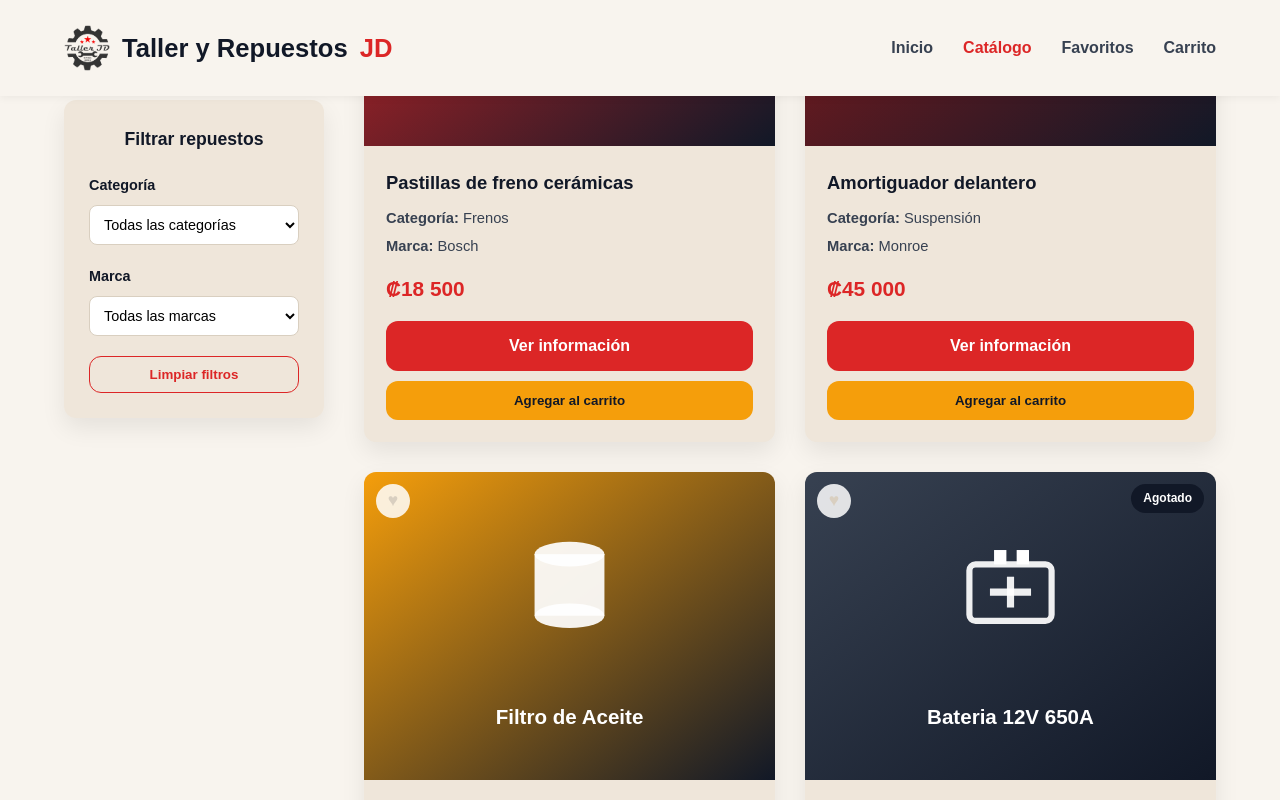
Carrito y consumo de la API de tipo de cambio › mientras la API responde muestra el estado de carga
(page scrolled)
Step 1. Click the button "Agregar al carrito" below "18 500" → (570,400), box [386, 381, 753, 420]
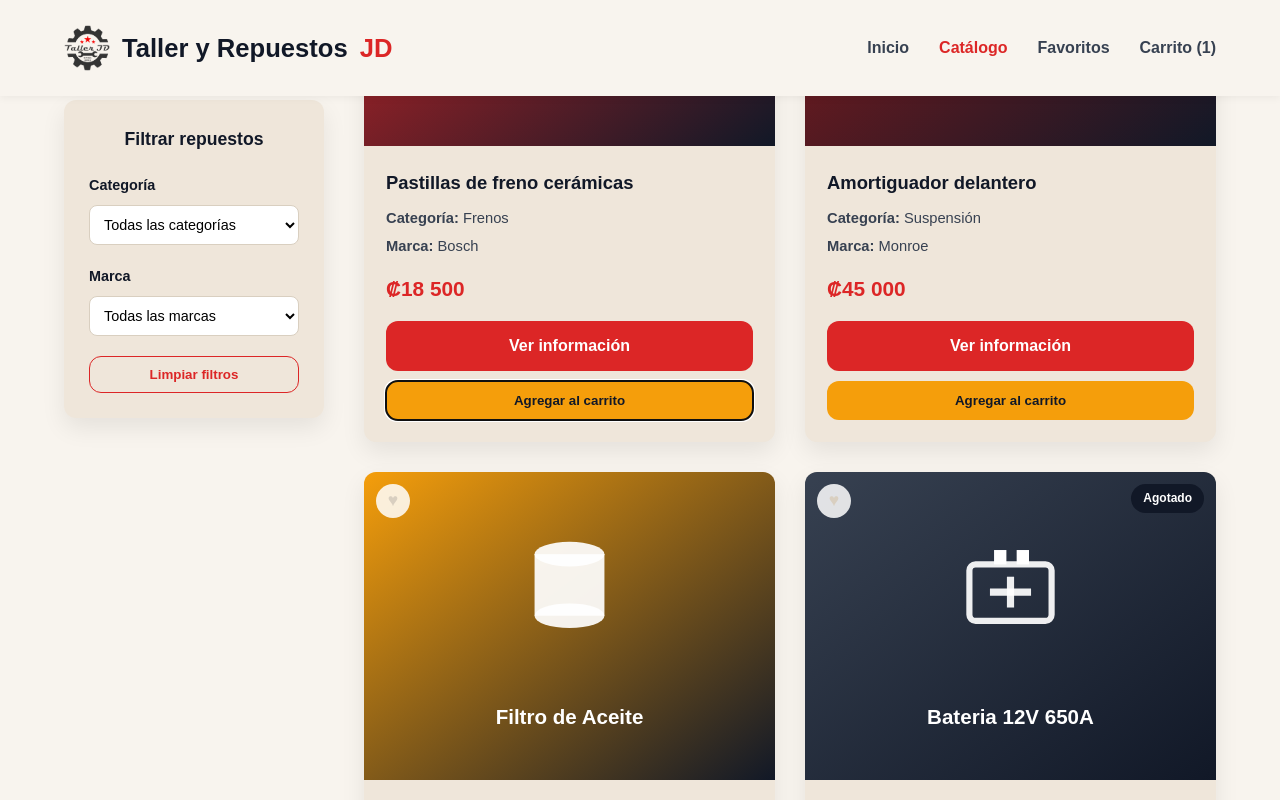
Step 2. Click the link "Carrito (1)" → (1166,48), box [1140, 39, 1216, 56]
(page scrolled)
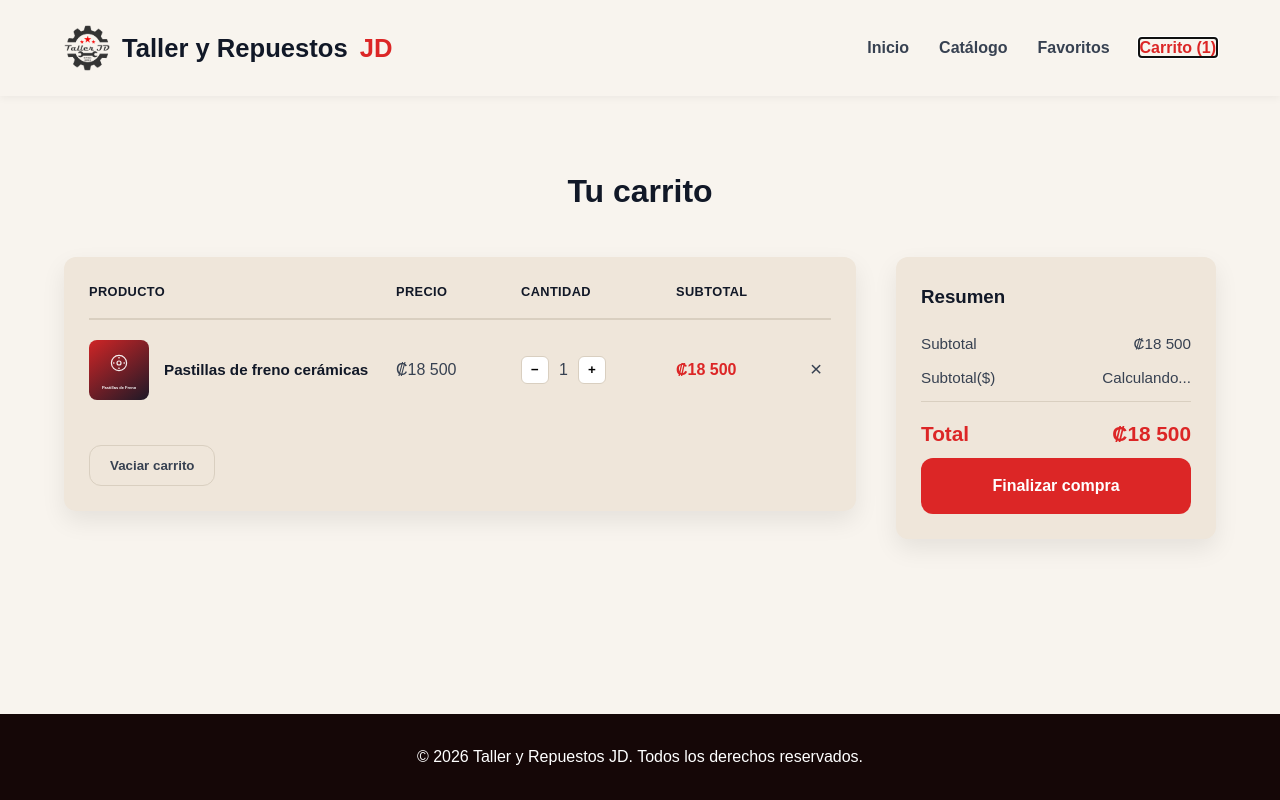
Check: the text "Calculando..." is shown, box [1102, 366, 1191, 391]
